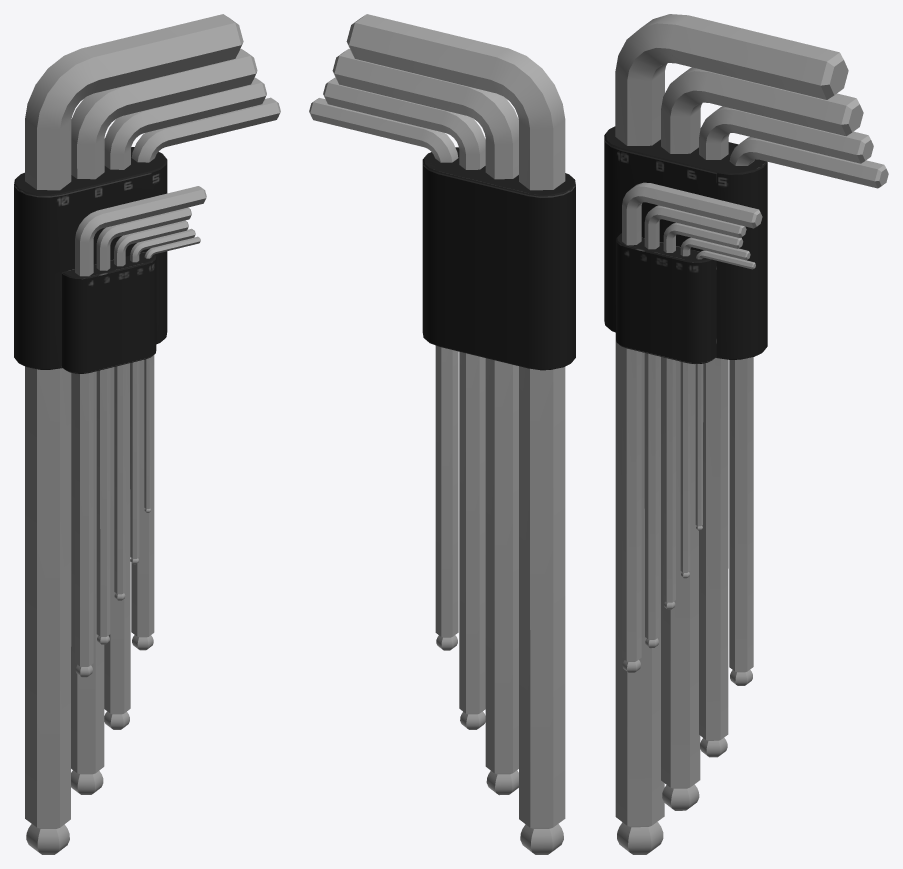
File: Imbussschluessel.fbx
The picture shows the model from 3 angles, left to right: view 1: azimuth 30°, elevation 25°; view 2: azimuth 150°, elevation 25°; view 3: azimuth 330°, elevation 25°; orthographic projection. The views are drawn at different scales.
Parts seen in each view (by area): view 1: Imbuss_10mm, ImbussCase_low, Imbuss_8mm, Imbuss_6mm, Imbuss_4mm, Imbuss_5mm, Imbuss_3mm, Imbuss_2.5mm, Imbuss_2mm, Imbuss_1.5mm; view 2: Imbuss_10mm, ImbussCase_low, Imbuss_8mm, Imbuss_6mm, Imbuss_5mm; view 3: Imbuss_10mm, ImbussCase_low, Imbuss_8mm, Imbuss_6mm, Imbuss_5mm, Imbuss_4mm, Imbuss_3mm, Imbuss_2.5mm, Imbuss_2mm, Imbuss_1.5mm.
Boxes of the visible parts, x1,y1,x2,y2 form: Imbuss_10mm: [25, 14, 243, 854]; ImbussCase_low: [14, 147, 167, 373]; Imbuss_8mm: [71, 49, 257, 794]; Imbuss_6mm: [104, 77, 266, 729]; Imbuss_4mm: [75, 186, 206, 677]; Imbuss_5mm: [131, 97, 280, 650]; Imbuss_3mm: [96, 207, 191, 644]; Imbuss_2.5mm: [114, 220, 188, 600]; Imbuss_2mm: [130, 228, 195, 564]; Imbuss_1.5mm: [144, 236, 200, 512]; Imbuss_10mm: [346, 14, 565, 854]; ImbussCase_low: [422, 147, 575, 370]; Imbuss_8mm: [332, 49, 518, 795]; Imbuss_6mm: [323, 77, 485, 729]; Imbuss_5mm: [309, 98, 458, 650]; Imbuss_10mm: [615, 14, 848, 854]; ImbussCase_low: [604, 126, 767, 363]; Imbuss_8mm: [661, 67, 863, 810]; Imbuss_6mm: [699, 106, 873, 757]; Imbuss_5mm: [729, 137, 888, 685]; Imbuss_4mm: [622, 182, 762, 672]; Imbuss_3mm: [644, 205, 746, 648]; Imbuss_2.5mm: [663, 222, 743, 609]; Imbuss_2mm: [680, 237, 750, 578]; Imbuss_1.5mm: [695, 250, 755, 530].
Size of the model in its own units: 6.18 by 18 by 1.82.
1 material, 1 textured.
